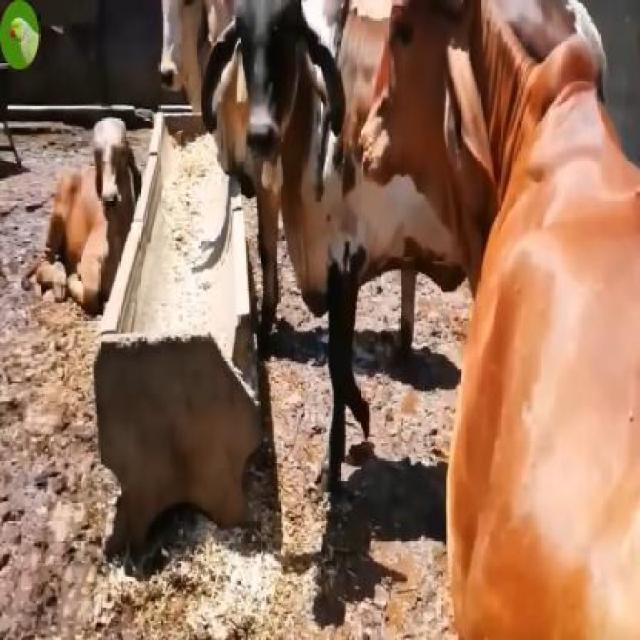Cow: (29, 117, 148, 318)
